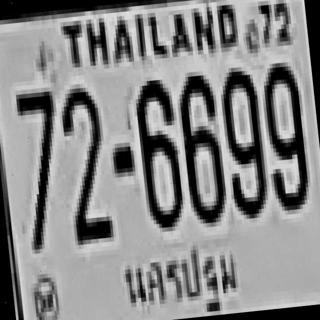N02: (56, 82, 111, 241)
N06: (132, 75, 184, 229), (174, 72, 226, 222)
N07: (14, 89, 66, 248), (14, 87, 62, 208), (14, 87, 61, 191)
N09: (258, 57, 310, 207), (218, 66, 266, 216)
P28: (114, 228, 245, 320)
